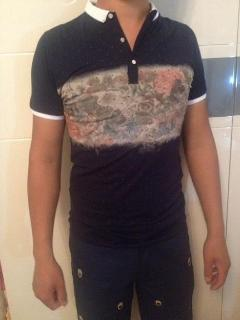short sleeve top: (29, 0, 208, 249)
trousers: (69, 223, 195, 319)
